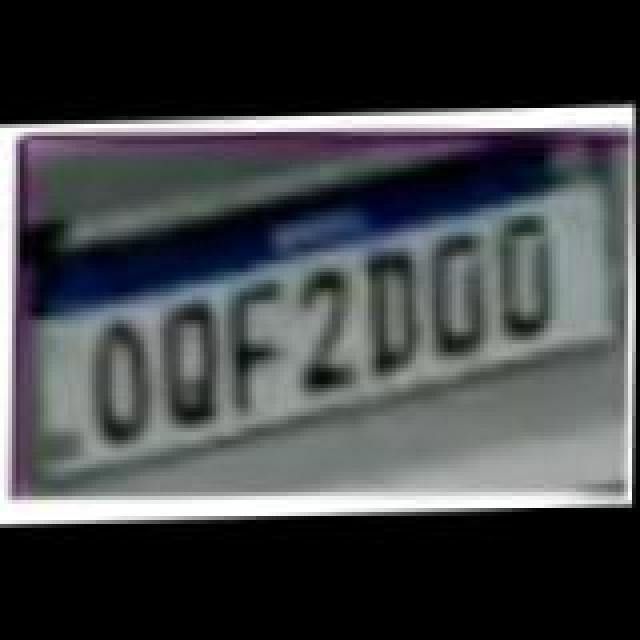2: (294, 270, 362, 394)
D: (430, 238, 498, 362), (364, 254, 428, 382), (496, 220, 560, 344)
F: (224, 284, 288, 416)
O: (92, 322, 160, 450)
Q: (162, 304, 230, 432)
